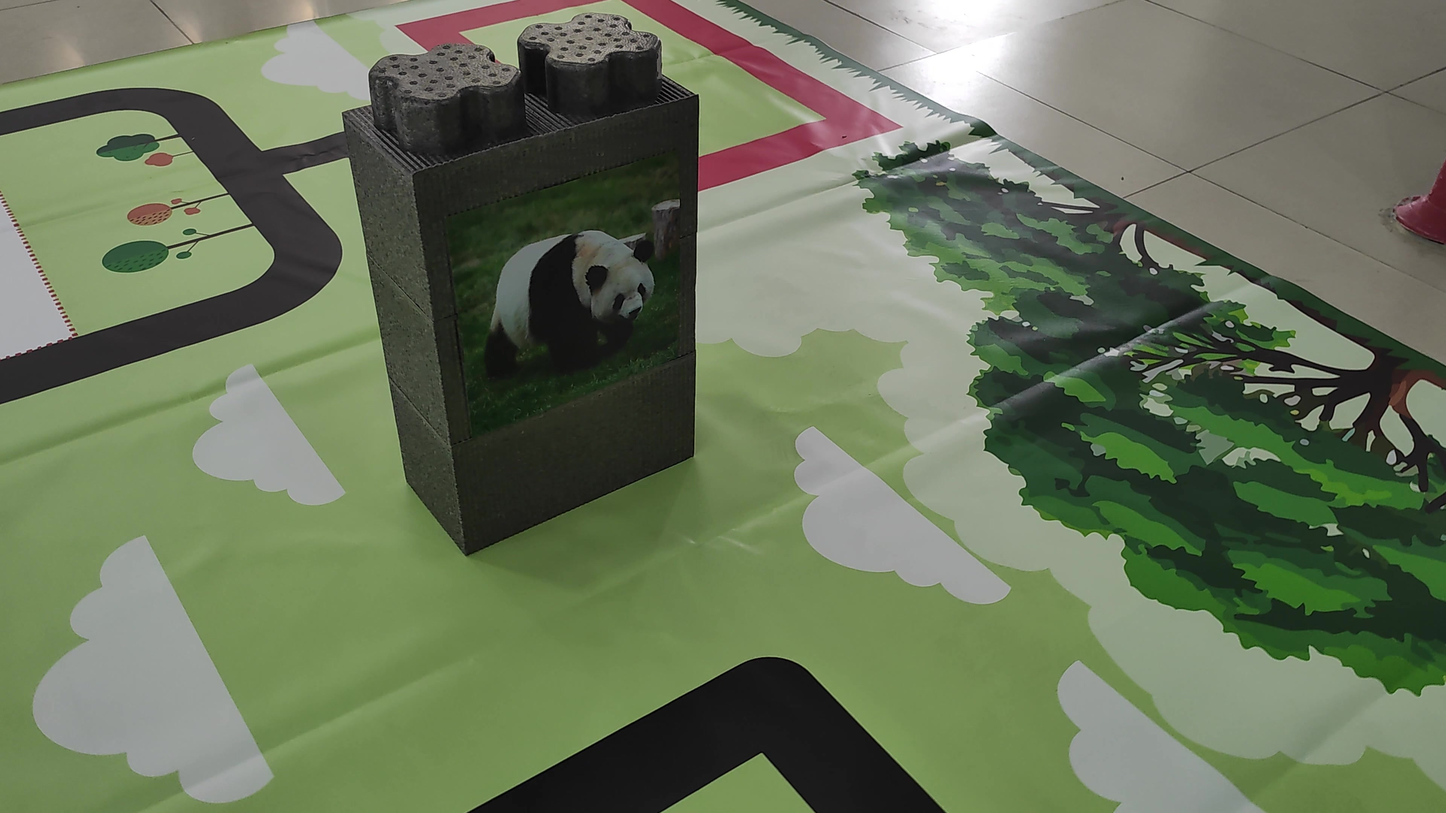panda: (463, 193, 670, 387)
